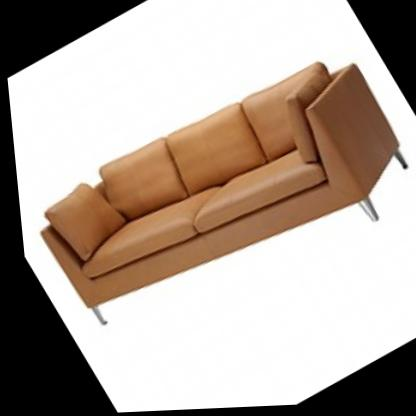Sofa: (3, 20, 416, 371)
